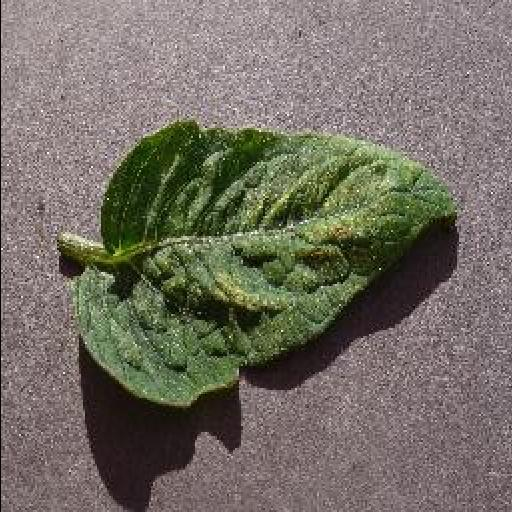disease_tomato: (72, 122, 460, 408)
